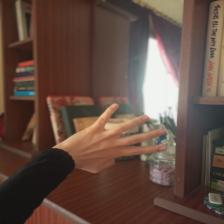four: (42, 96, 173, 182)
